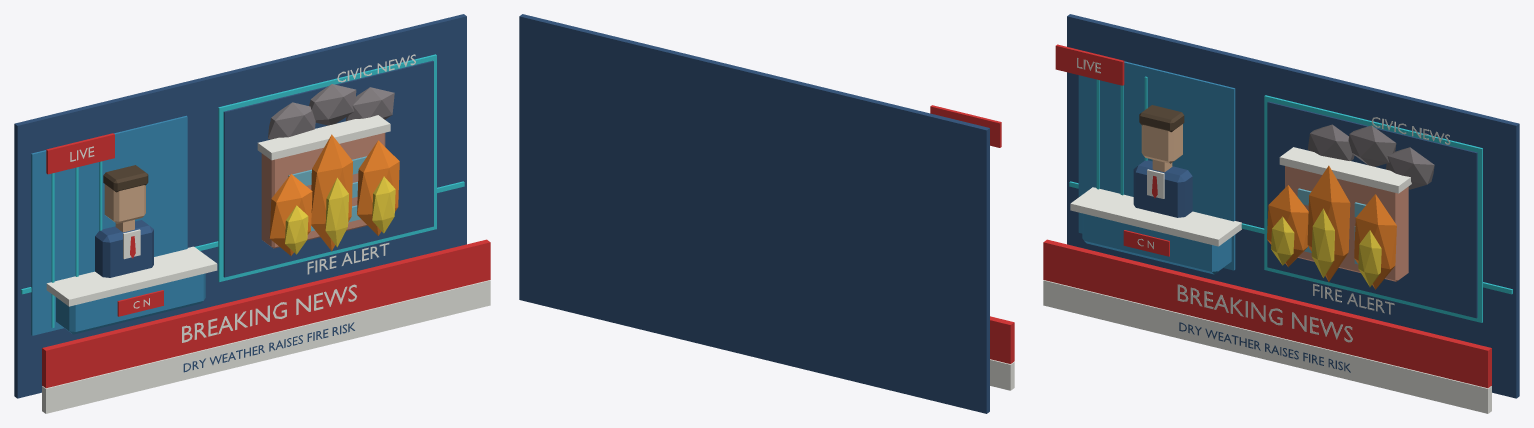
The model's file is News_Background_Fire.fbx.
3 renders of one model, left to right at view 1: azimuth 30°, elevation 25°; view 2: azimuth 150°, elevation 25°; view 3: azimuth 330°, elevation 25°, orthographic. The views are drawn at different scales.
Parts seen in each view (by area): view 1: Screen Background.015, Breaking Lower Third.015, Story Window.015, Studio Left Panel.015, Hint Strip.015, Desk Top.015, Desk.015, Story Border.015, Building Facade.011, Roof Trim.011, Outer Flame.010, Anchor Jacket.015 (+17 smaller); view 2: Screen Background.015, Breaking Lower Third.015, Live Badge.015, Hint Strip.015; view 3: Screen Background.015, Breaking Lower Third.015, Story Window.015, Studio Left Panel.015, Hint Strip.015, Desk Top.015, Story Border.015, Desk.015, Building Facade.011, Roof Trim.011, Outer Flame.010, Anchor Jacket.015 (+17 smaller).
Boxes of the visible parts, x1,y1,x2,y2 form: Screen Background.015: [14, 14, 466, 398]; Breaking Lower Third.015: [42, 239, 490, 388]; Story Window.015: [223, 60, 433, 277]; Studio Left Panel.015: [31, 115, 187, 335]; Hint Strip.015: [42, 280, 490, 413]; Desk Top.015: [46, 246, 217, 306]; Desk.015: [56, 273, 205, 334]; Story Border.015: [218, 54, 436, 281]; Building Facade.011: [261, 133, 385, 248]; Roof Trim.011: [257, 115, 390, 160]; Outer Flame.010: [311, 134, 352, 250]; Anchor Jacket.015: [95, 220, 153, 277]; Screen Background.015: [519, 14, 989, 413]; Breaking Lower Third.015: [990, 316, 1014, 363]; Live Badge.015: [930, 105, 1001, 147]; Hint Strip.015: [990, 359, 1014, 390]; Screen Background.015: [1067, 14, 1519, 398]; Breaking Lower Third.015: [1043, 239, 1491, 388]; Story Window.015: [1267, 101, 1477, 318]; Studio Left Panel.015: [1078, 61, 1235, 270]; Hint Strip.015: [1043, 280, 1491, 413]; Desk Top.015: [1070, 187, 1241, 246]; Story Border.015: [1264, 95, 1482, 322]; Desk.015: [1082, 213, 1231, 274]; Building Facade.011: [1285, 166, 1408, 281]; Roof Trim.011: [1279, 147, 1411, 193]; Outer Flame.010: [1307, 165, 1350, 281]; Anchor Jacket.015: [1133, 160, 1192, 217].
Size of the model in its own units: 376 by 218 by 53.43.
